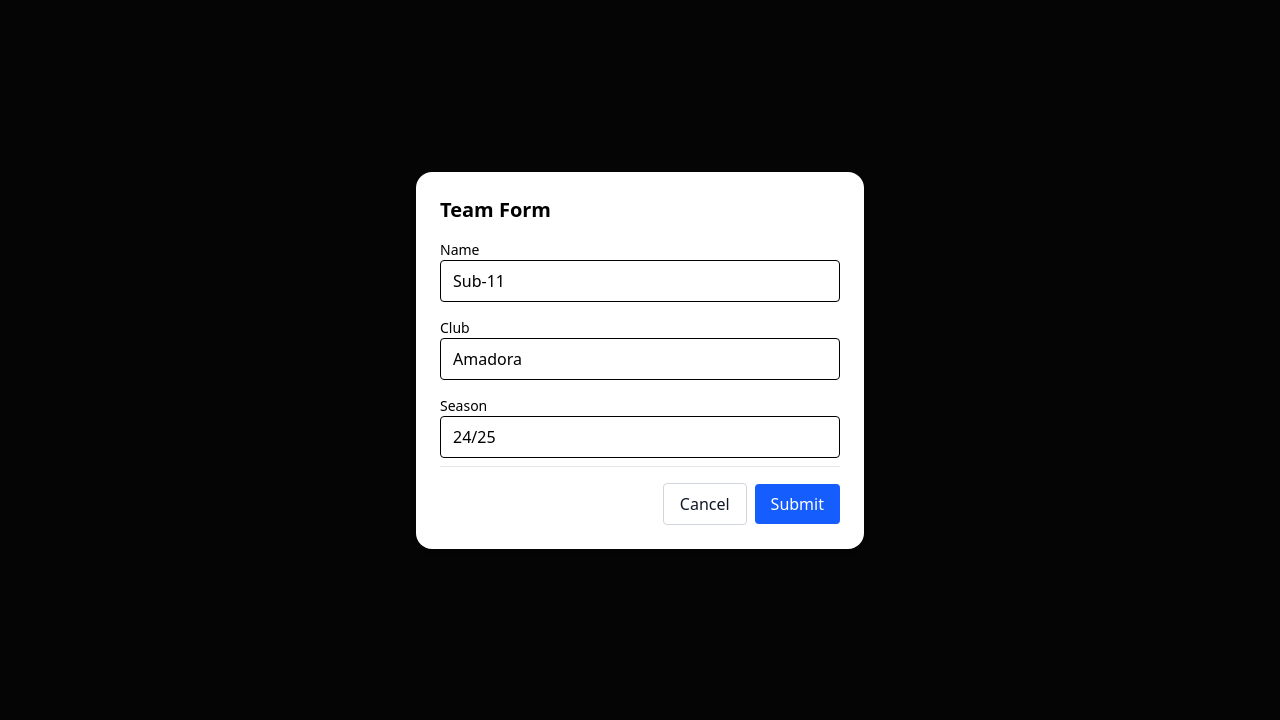
a rejected update renders an error and does not close the popup (AC CRUD-01.1)
Step 1. Click the button "Submit" → (797, 504), box [755, 484, 840, 524]
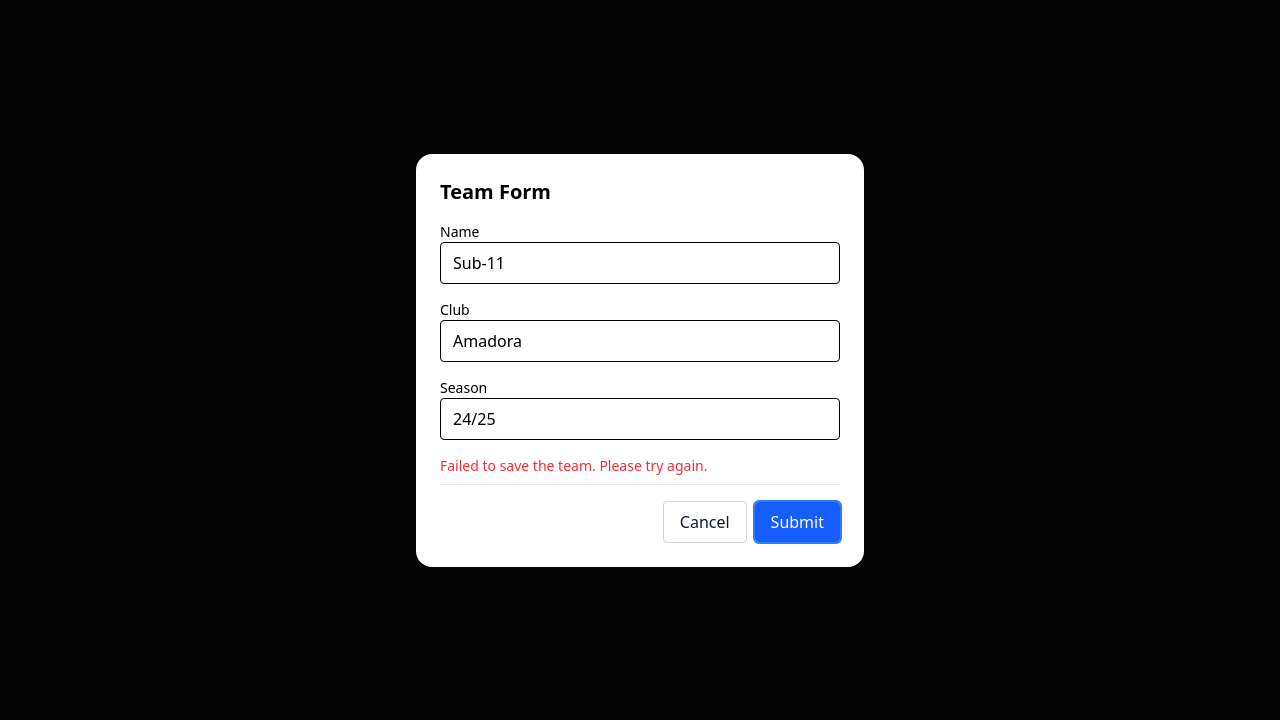
Check: the text "Failed to save the team. Please try again." is shown, box [440, 456, 707, 474]
